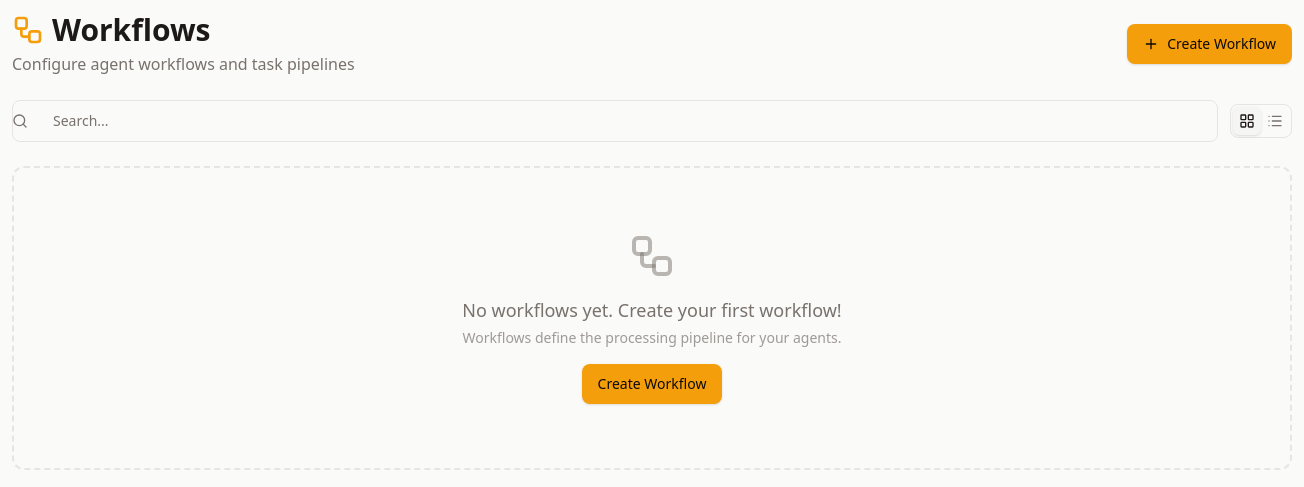
Scenario: WorkflowsPage › shows no results when search returns empty
Type "nonexistent" into the field with test id "workflow-search".
click(615, 121); type("nonexistent")  # box x1=12 y1=100 x2=1218 y2=142
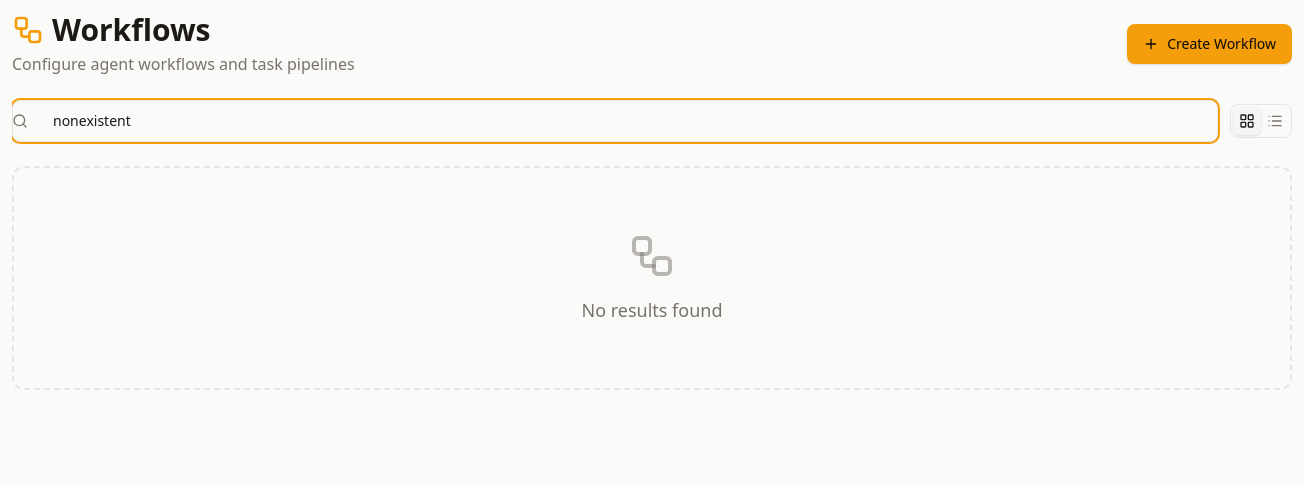
Now the text "No results found" is shown, box x1=582 y1=296 x2=723 y2=324
